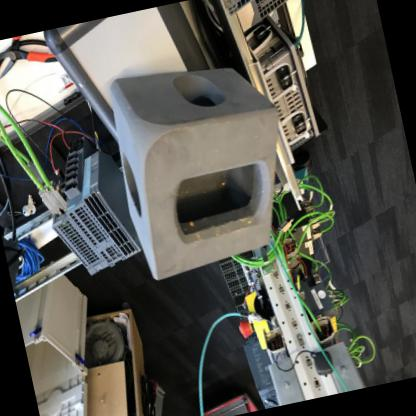CornerCasting: (98, 49, 310, 288)
